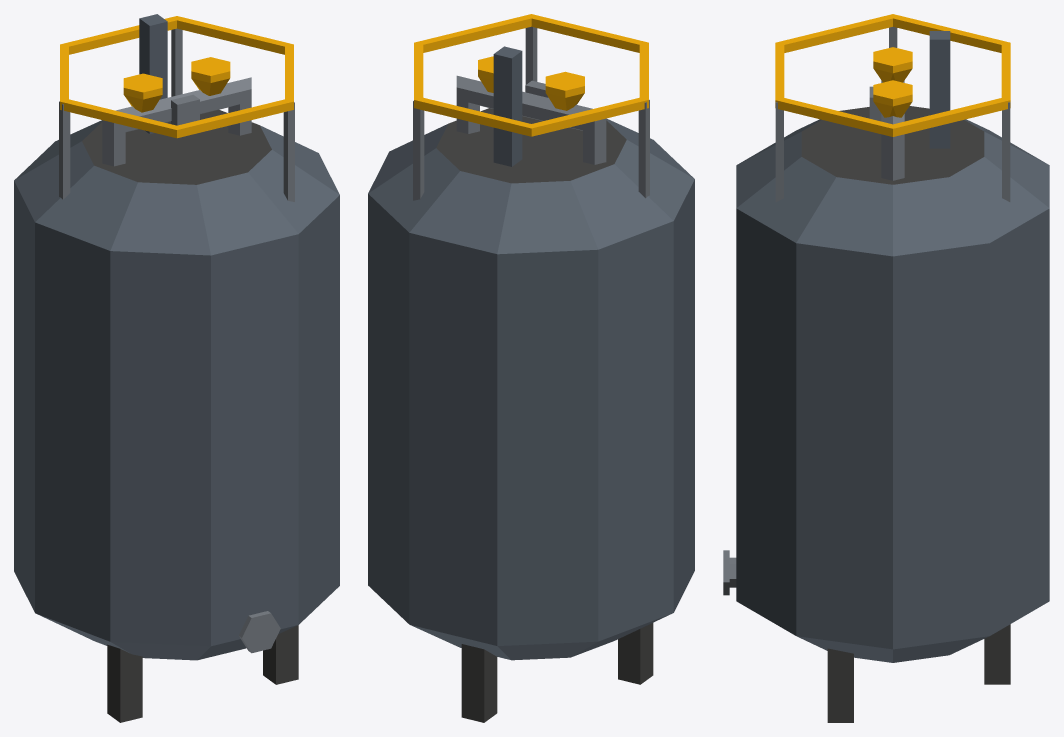
File: fuel_dewar.glb
The picture shows the model from 3 angles, left to right: view 1: azimuth 30°, elevation 25°; view 2: azimuth 150°, elevation 25°; view 3: azimuth 270°, elevation 25°; orthographic projection.
Visible parts, largest first — view 1: fuel_dewar; view 2: fuel_dewar; view 3: fuel_dewar.
Boxes of the visible parts, x1=… form: fuel_dewar: x1=14, y1=14, x2=339, y2=722; fuel_dewar: x1=368, y1=14, x2=694, y2=722; fuel_dewar: x1=723, y1=14, x2=1049, y2=722.
Size of the model in its own units: 1.26 by 2.72 by 1.25.
